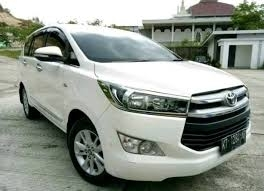plate: (221, 131, 247, 149)
